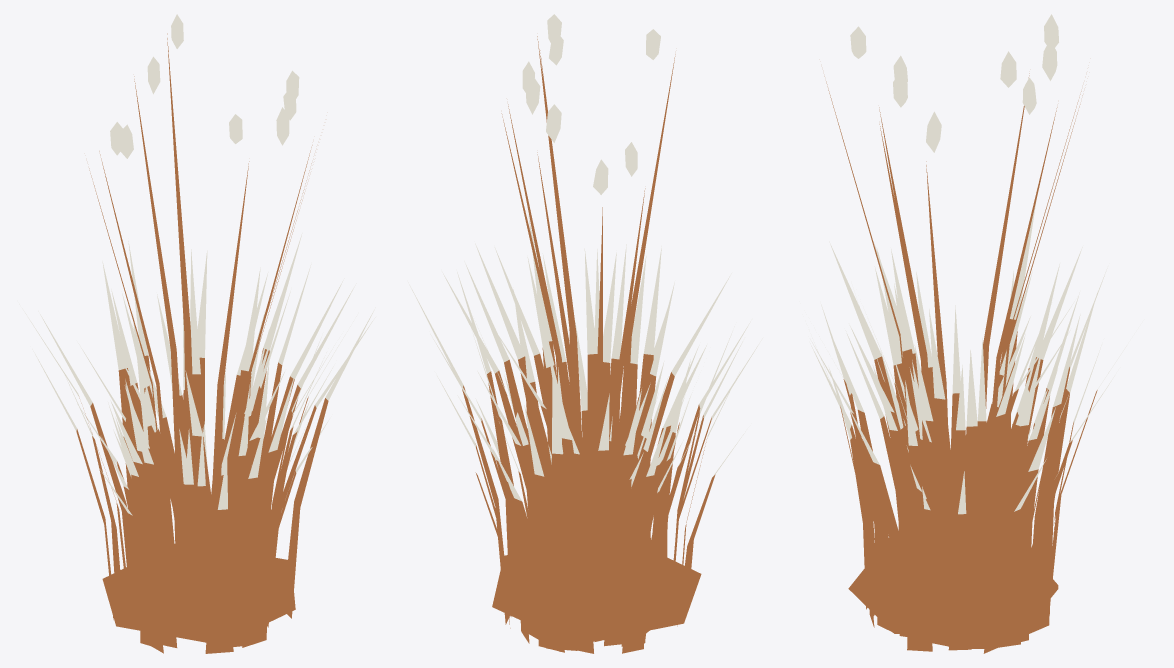
File: Blender_LittleBluestem_2.glb
3 views of the same model, side by side, from view 1: azimuth 30°, elevation 25°; view 2: azimuth 150°, elevation 25°; view 3: azimuth 270°, elevation 25° (orthographic). The views are drawn at different scales.
Parts seen in each view (by area): view 1: Blender_LittleBluestem_2; view 2: Blender_LittleBluestem_2; view 3: Blender_LittleBluestem_2.
Boxes of the visible parts, x1,y1,x2,y2 form: Blender_LittleBluestem_2: [19, 14, 375, 653]; Blender_LittleBluestem_2: [408, 14, 762, 653]; Blender_LittleBluestem_2: [810, 14, 1126, 653].
Size of the model in its own units: 0.5333 by 0.9646 by 0.5233.
